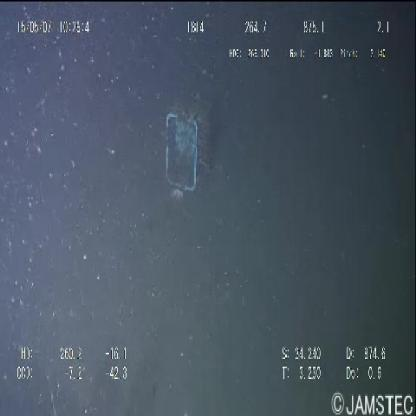Rác: (159, 103, 203, 210)
